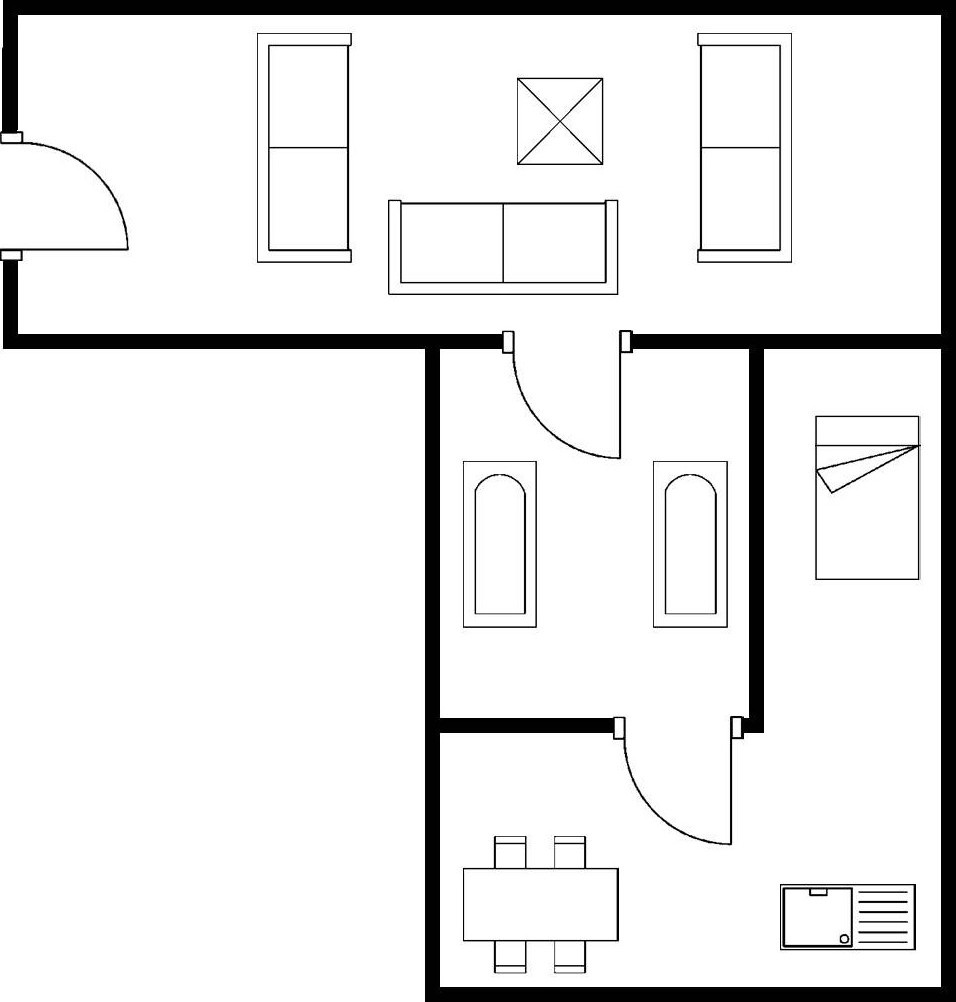bed: (812, 409, 923, 587)
coffee_table: (510, 73, 609, 170)
dining_table: (457, 832, 625, 980)
large_sofa: (689, 27, 799, 269), (253, 28, 355, 270), (382, 197, 623, 298)
sink: (776, 879, 921, 957)
tub: (646, 457, 734, 634), (457, 456, 542, 635)
